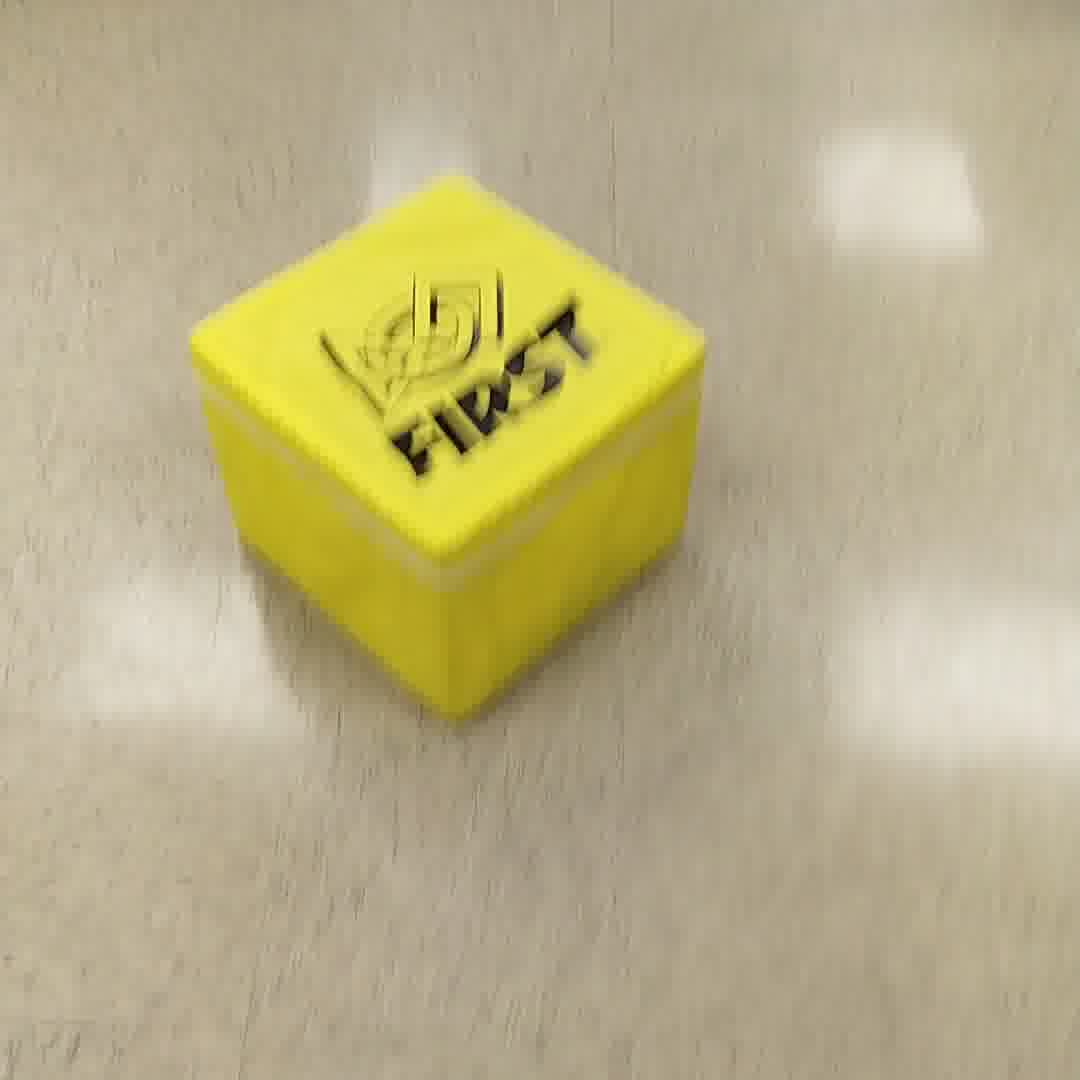box: (181, 185, 705, 717)
